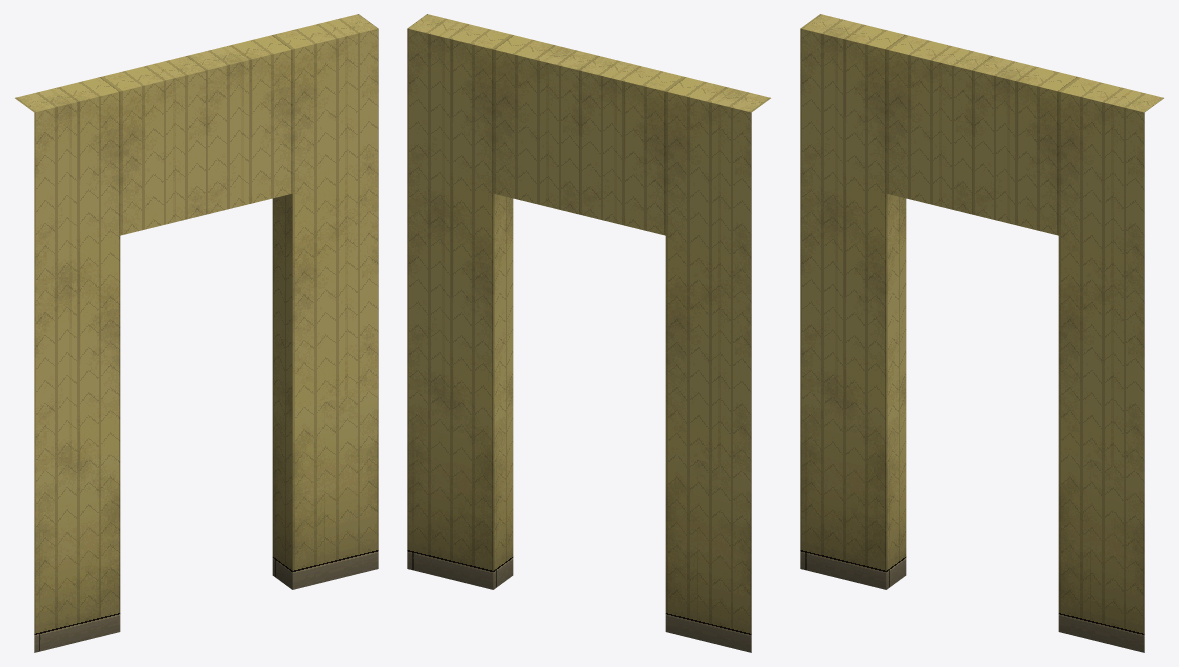
File: wall_yellow_doorway.glb
3 renders of one model, left to right at view 1: azimuth 30°, elevation 25°; view 2: azimuth 150°, elevation 25°; view 3: azimuth 330°, elevation 25°, orthographic.
Visible parts, largest first — view 1: wall_yellow_doorway; view 2: wall_yellow_doorway; view 3: wall_yellow_doorway.
Boxes of the visible parts, left/top/right/bottom form: wall_yellow_doorway: left=15, top=14, right=378, bottom=652; wall_yellow_doorway: left=407, top=14, right=770, bottom=652; wall_yellow_doorway: left=800, top=14, right=1163, bottom=652.
Size of the model in its own units: 2 by 3 by 0.2.
